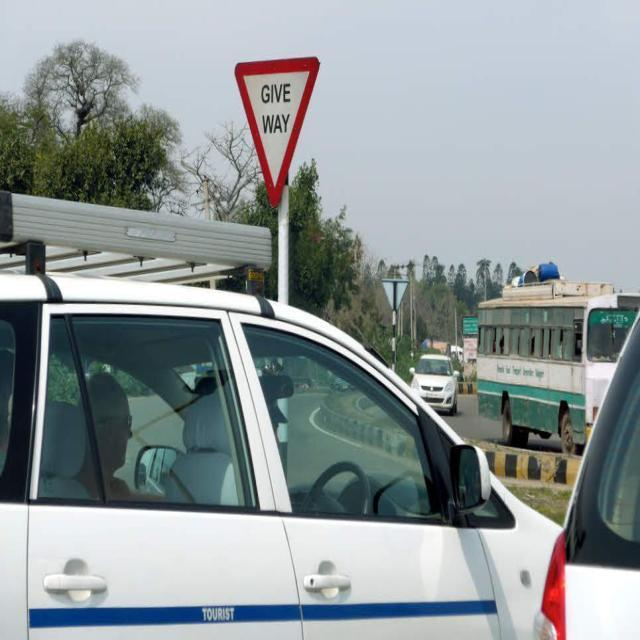give way: (226, 50, 339, 213)
